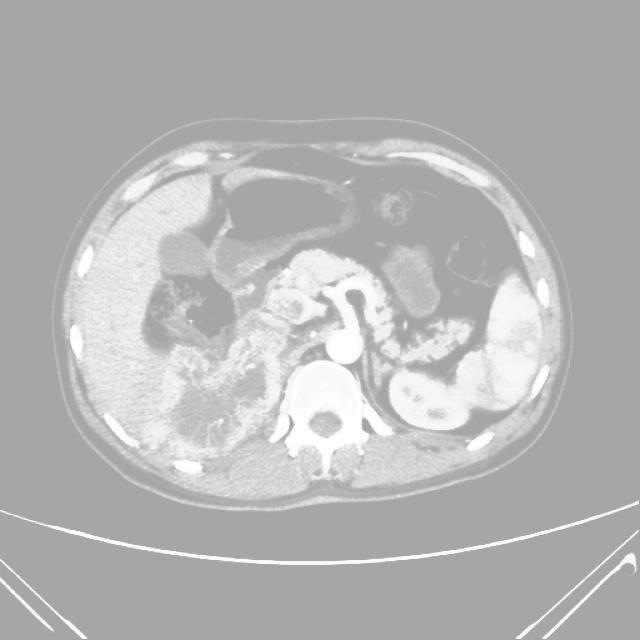TUMOR: (172, 155, 513, 357)
